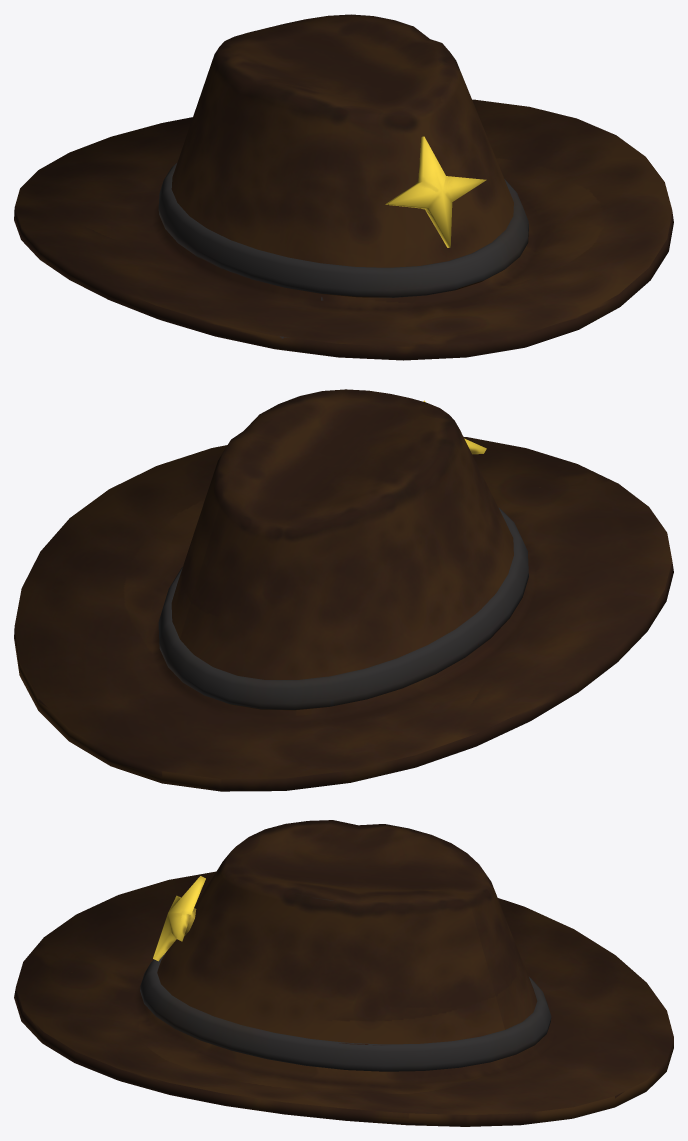
File: CowboyHat.glb
3 renders of one model, top to bottom at view 1: azimuth 30°, elevation 25°; view 2: azimuth 150°, elevation 25°; view 3: azimuth 270°, elevation 25°, orthographic. The views are drawn at different scales.
Visible parts, largest first — view 1: Cowboy Hat; view 2: Cowboy Hat; view 3: Cowboy Hat.
Part boxes in pixels (x1,y1,x2,y2): Cowboy Hat: (14, 14, 673, 360); Cowboy Hat: (14, 389, 673, 791); Cowboy Hat: (14, 820, 673, 1126).
Bounding box in the file's own units: 0.3387 × 0.1263 × 0.3913.
Materials: 1 (1 with a texture image).
